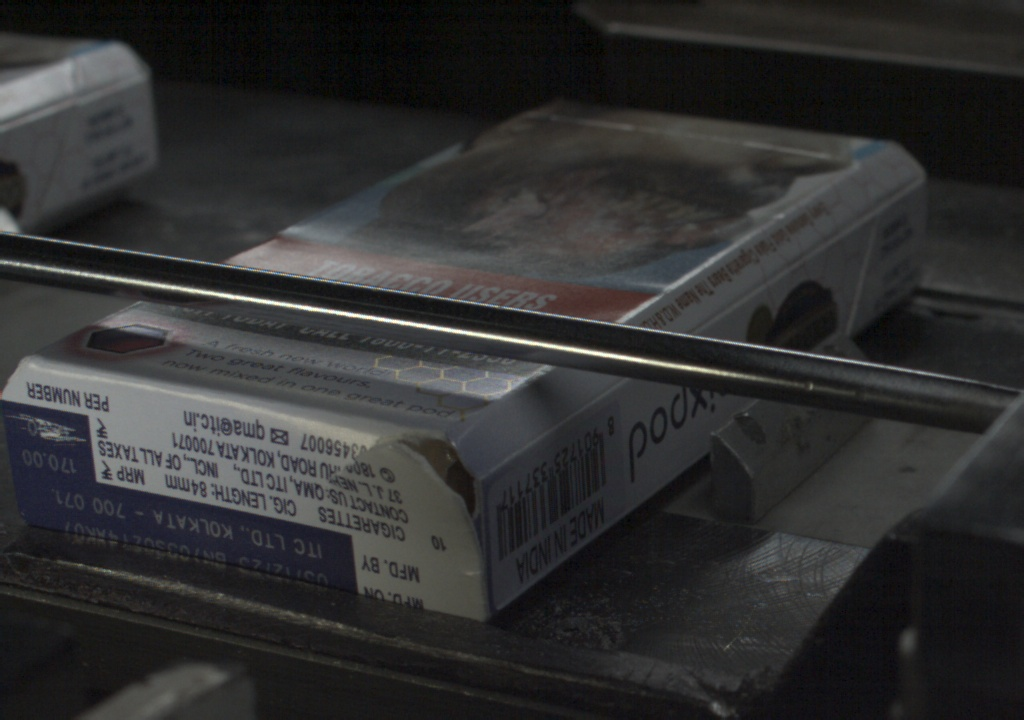g_label: (16, 484, 358, 594)
g_lmiter: (697, 268, 784, 328), (784, 212, 869, 268), (553, 382, 619, 425), (489, 428, 551, 471)
g_miter: (875, 171, 927, 209)
ng_bottom: (317, 429, 495, 622), (4, 397, 95, 461)
